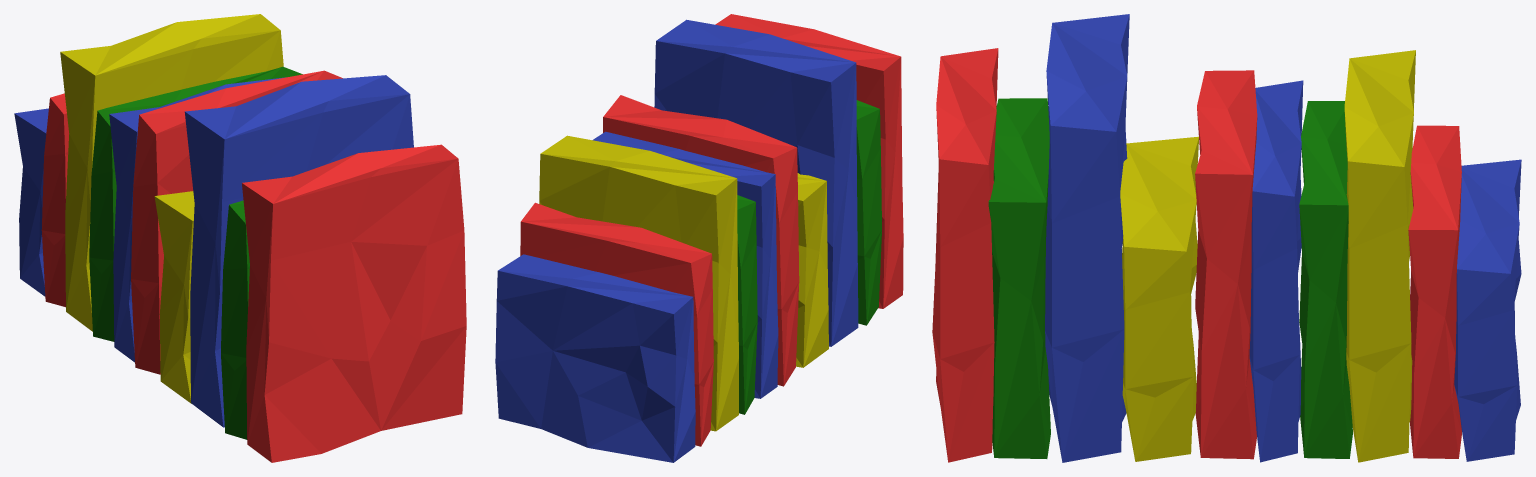
The model's file is stm_env_Books.fbx.
3 views of the same model, side by side, from view 1: azimuth 30°, elevation 25°; view 2: azimuth 150°, elevation 25°; view 3: azimuth 270°, elevation 25° (orthographic). The views are drawn at different scales.
Parts seen in each view (by area): view 1: Books; view 2: Books; view 3: Books.
Part boxes in pixels (left/top/right/bottom): Books: left=14, top=14, right=466, bottom=462; Books: left=495, top=14, right=903, bottom=462; Books: left=932, top=14, right=1521, bottom=462.
Bounding box in the file's own units: 160 × 229 × 355.
